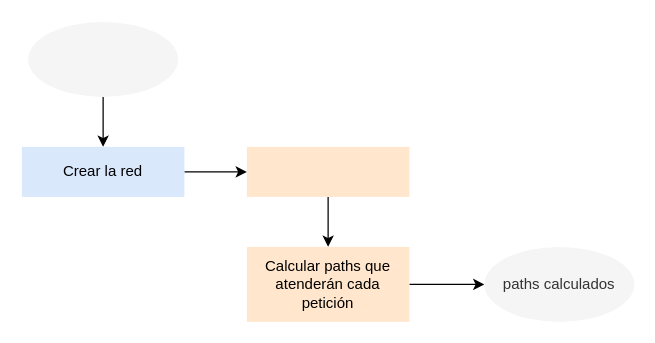
The diagram is 655 pixels wide and 343 high, and some of its shapes have lost their labels. The box of each missing label's shape, as (x1, y1, x2, y2) in pixels:
Instanciar clase NetworkManager: (28, 21, 178, 96)
Medir fidelidades de cada enlace: (246, 146, 409, 196)
